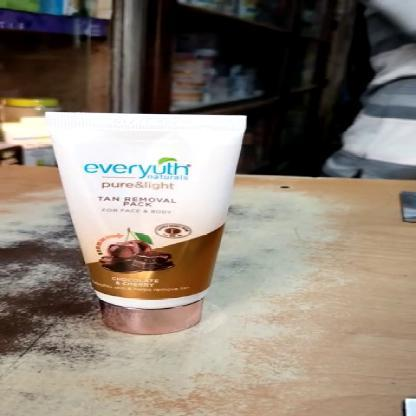EY TAN CHOCO CHERRY PACK 50G: (48, 114, 246, 338)
